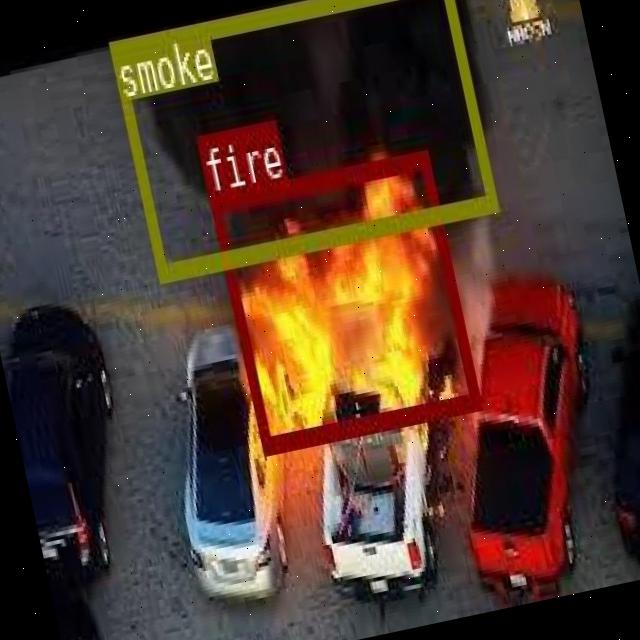fire: (206, 147, 479, 450)
smoke: (106, 0, 496, 279)
